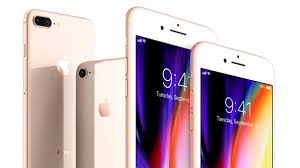iphone: (21, 7, 95, 168), (74, 56, 131, 168)
iphone10: (18, 8, 93, 168), (189, 38, 275, 168), (75, 56, 132, 168)
